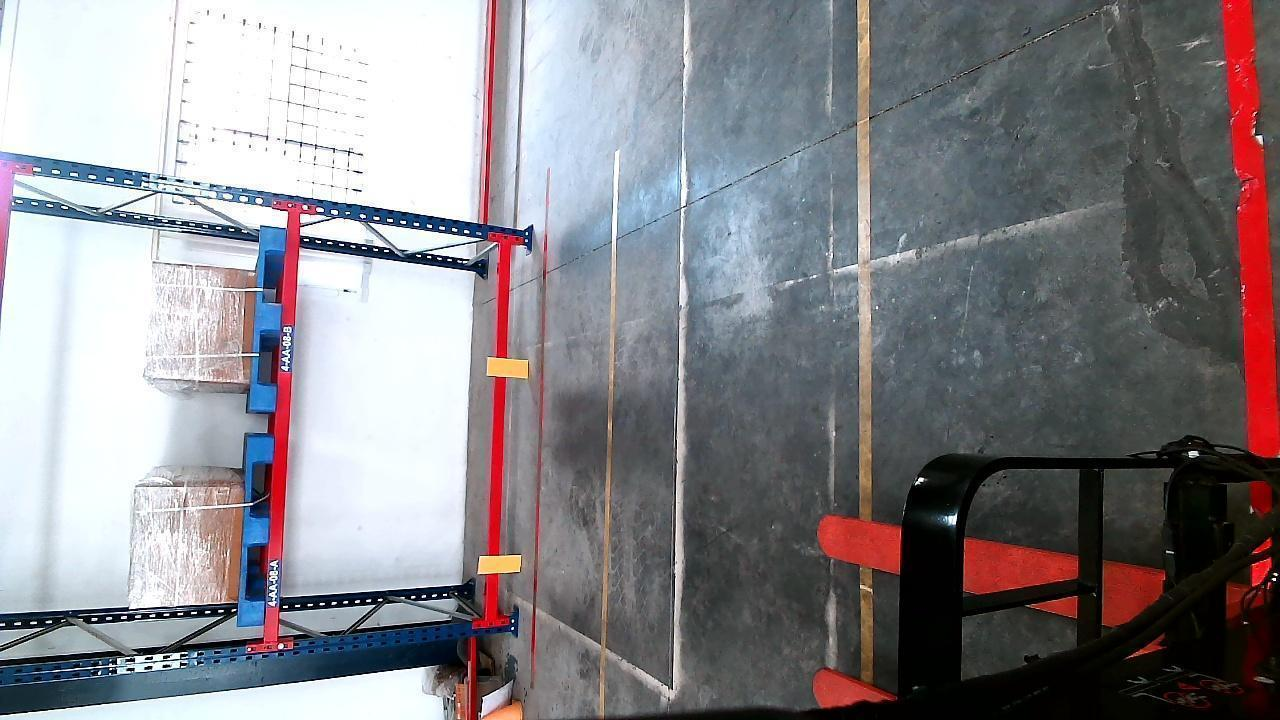red_line: (1225, 0, 1280, 463), (528, 163, 560, 685)
yellow_line: (596, 146, 625, 720), (854, 0, 877, 507)
